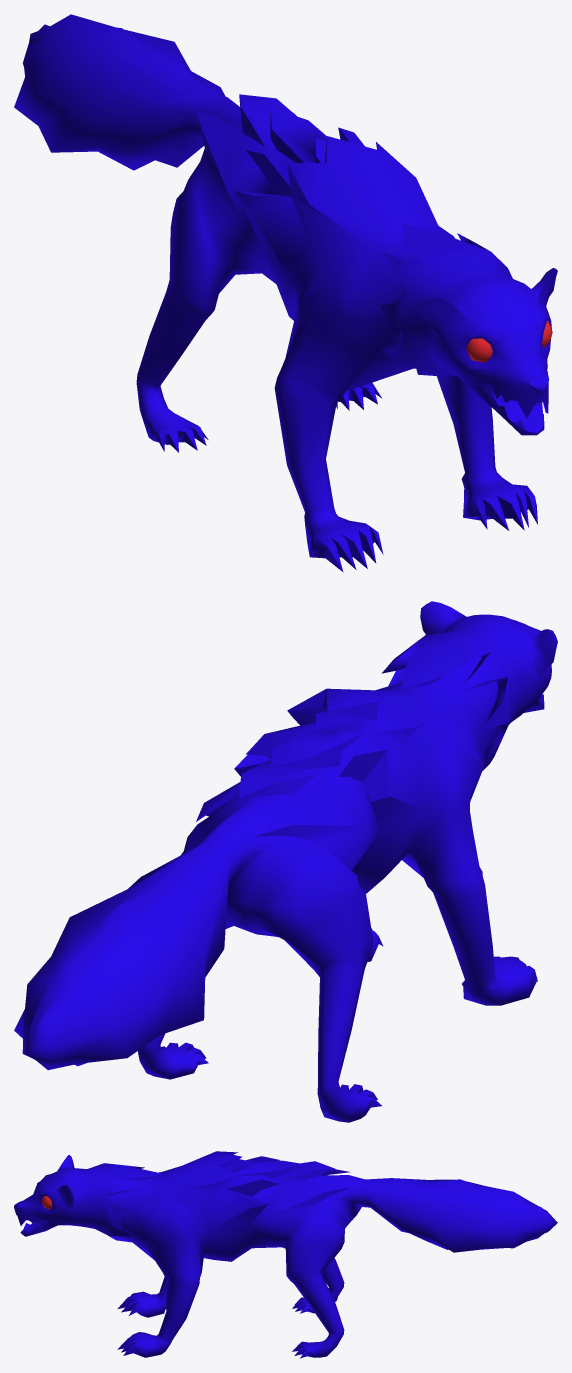
File: Wolverine_MatPaint.fbx
3 views of the same model, one above another, from view 1: azimuth 30°, elevation 25°; view 2: azimuth 150°, elevation 25°; view 3: azimuth 270°, elevation 25° (orthographic). The views are drawn at different scales.
Visible parts, largest first — view 1: Plane; view 2: Plane; view 3: Plane.
Boxes of the visible parts, x1=… form: Plane: x1=14, y1=14, x2=557, y2=572; Plane: x1=14, y1=601, x2=557, y2=1122; Plane: x1=14, y1=1151, x2=557, y2=1358.
Bounding box in the file's own units: 30.28 × 43.52 × 123.
